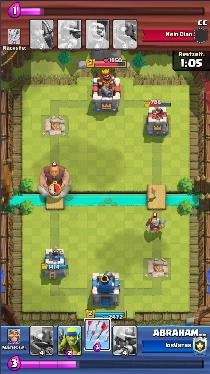enemy_giant: (39, 165, 69, 194)
enemy_knight: (145, 217, 166, 234)
